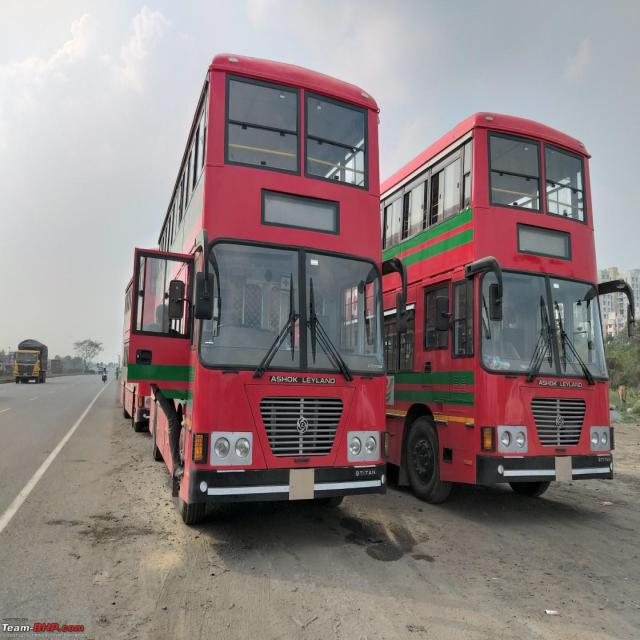Double decker: (145, 51, 404, 538), (385, 109, 626, 499)
Truck: (15, 343, 49, 385)
